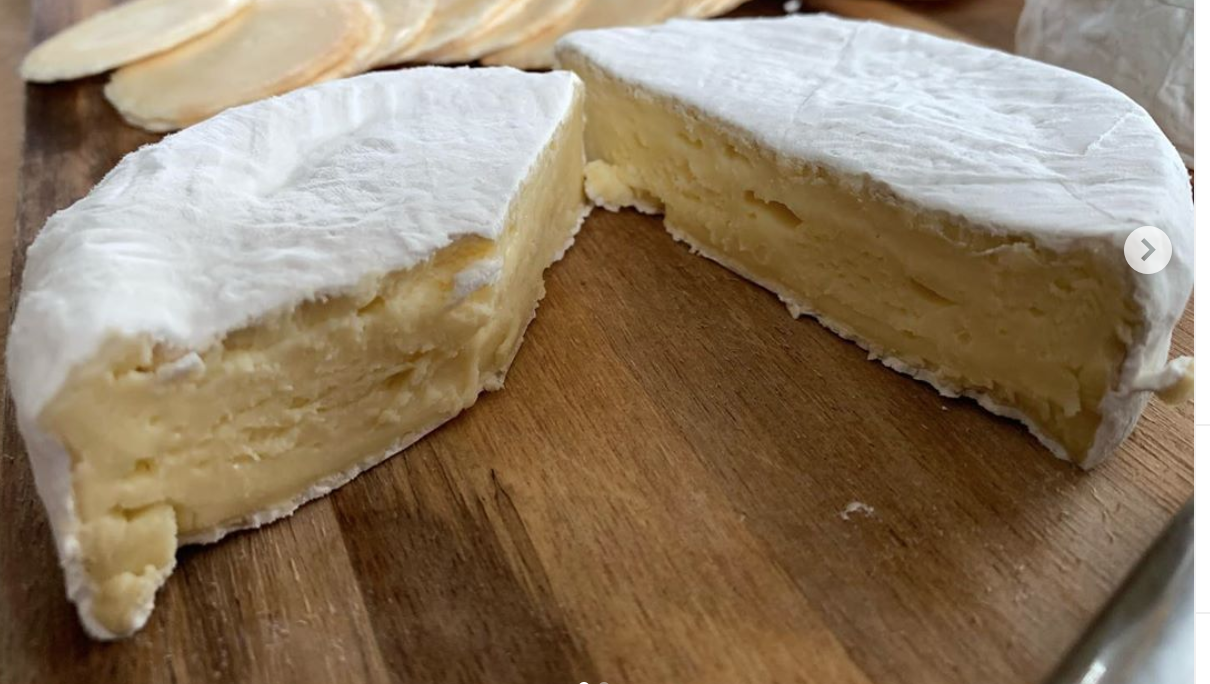camembert: (6, 63, 593, 642), (549, 4, 1189, 477)
